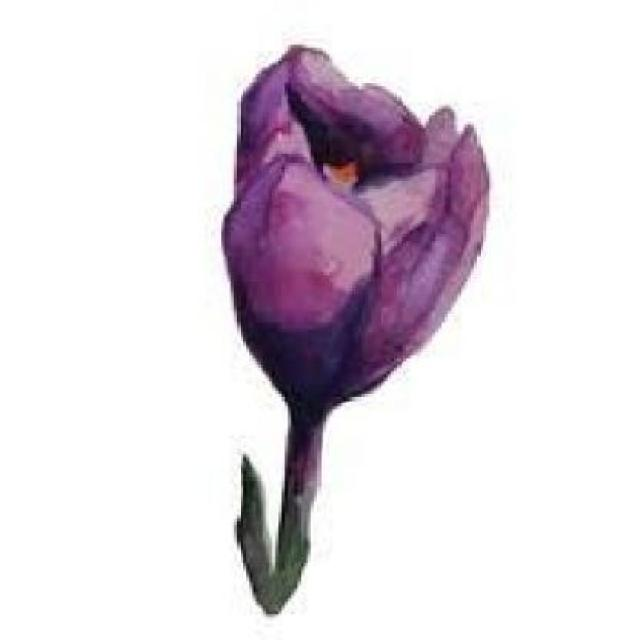Flower: (223, 41, 492, 428)
